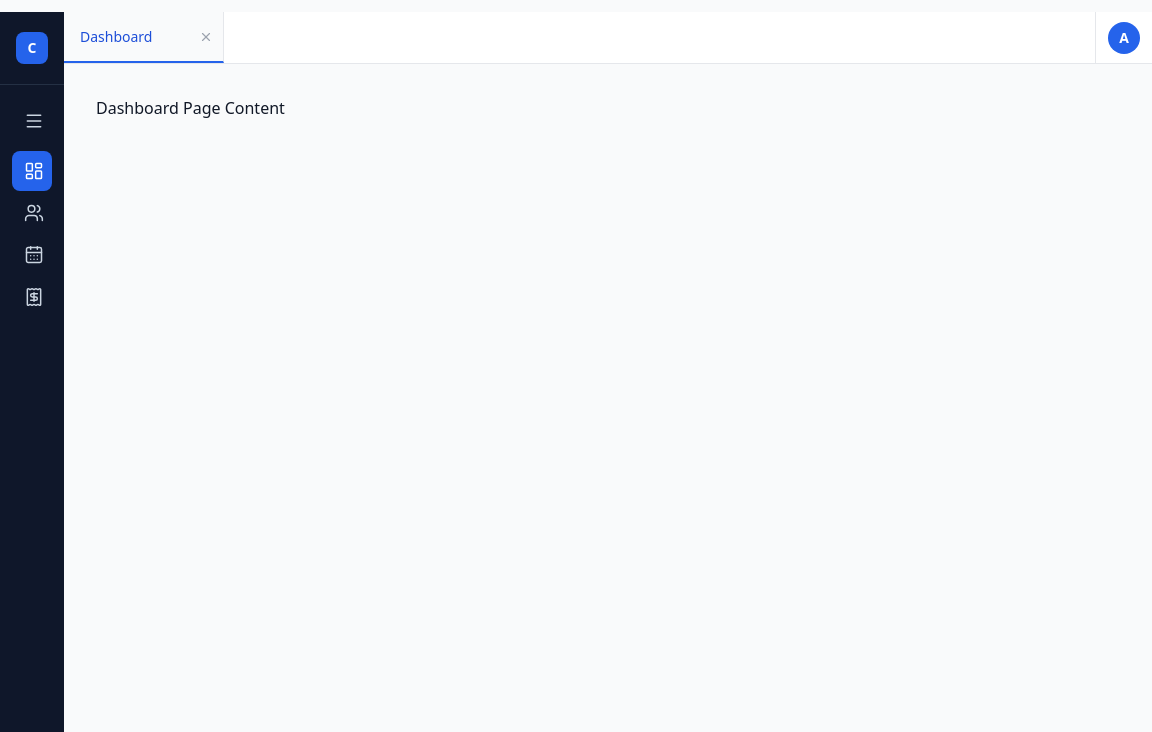
Test: Layout › goes back to routed content once a new tab is opened from the empty state
Click the button with test id "tab-close": (206, 36) [199,30,213,44]
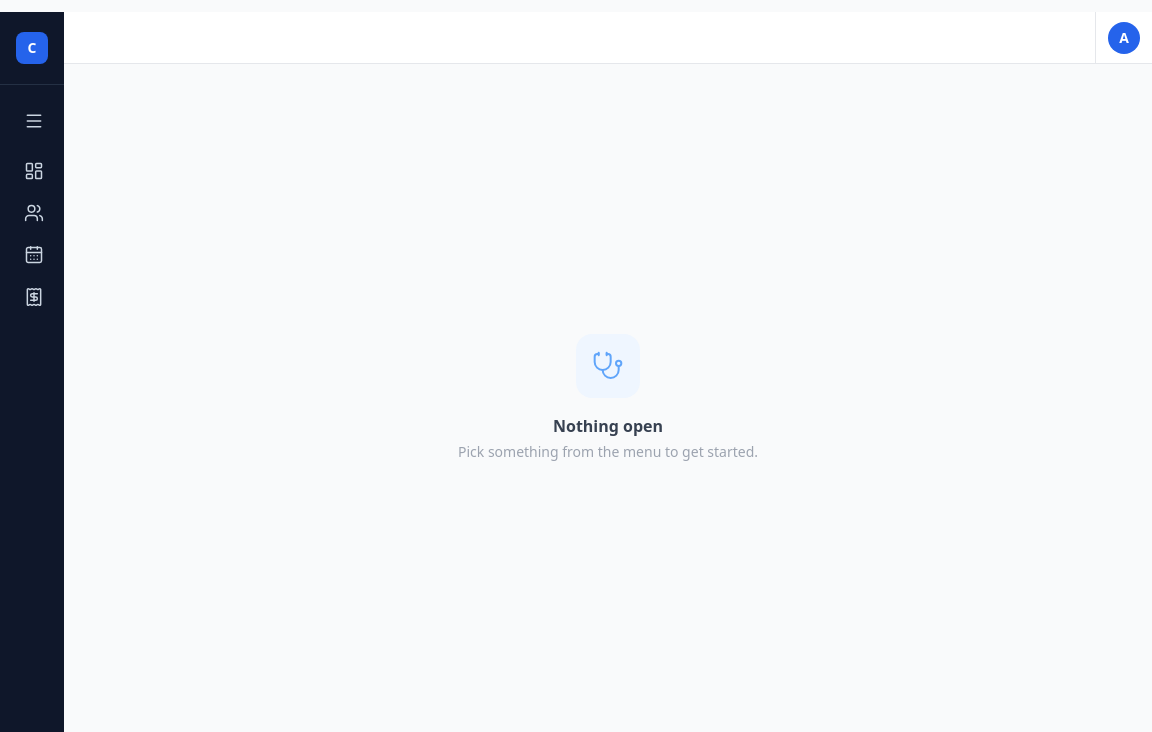
Result: the text "Nothing open" is shown at [553,414,663,438]
Hover over the element with test id "rail": (32, 372) [0,12,64,731]
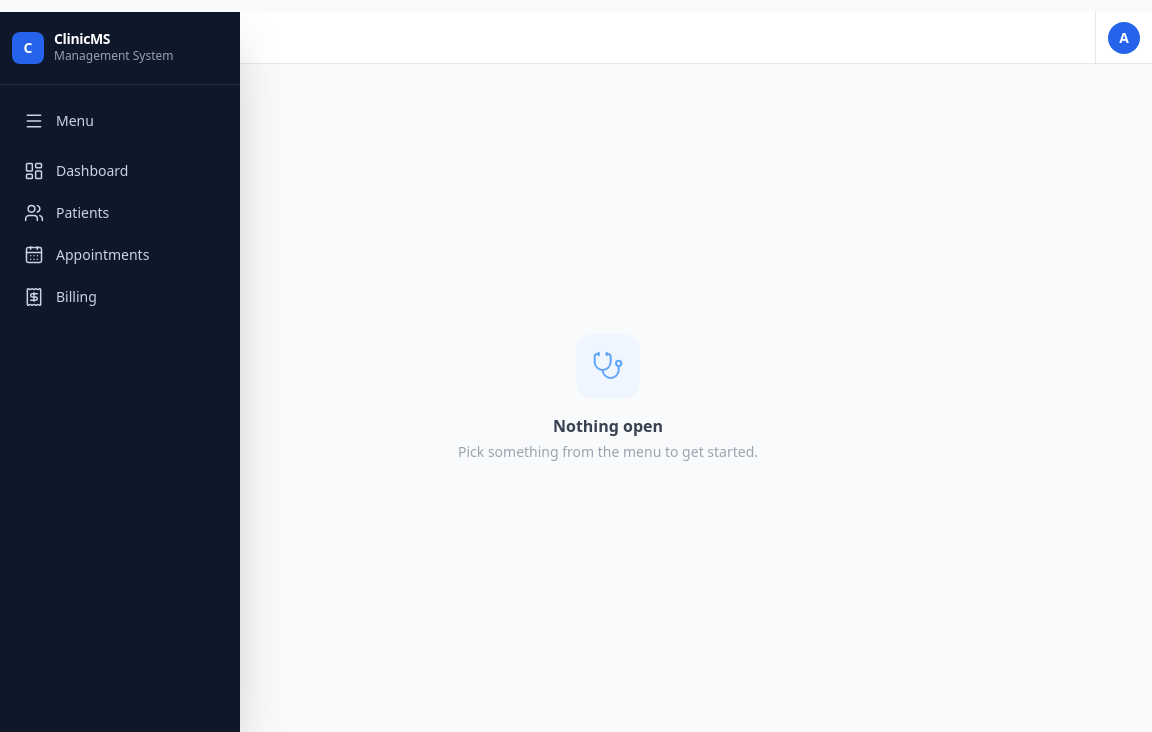
Click the link "Patients": (67, 213) [24,203,109,223]
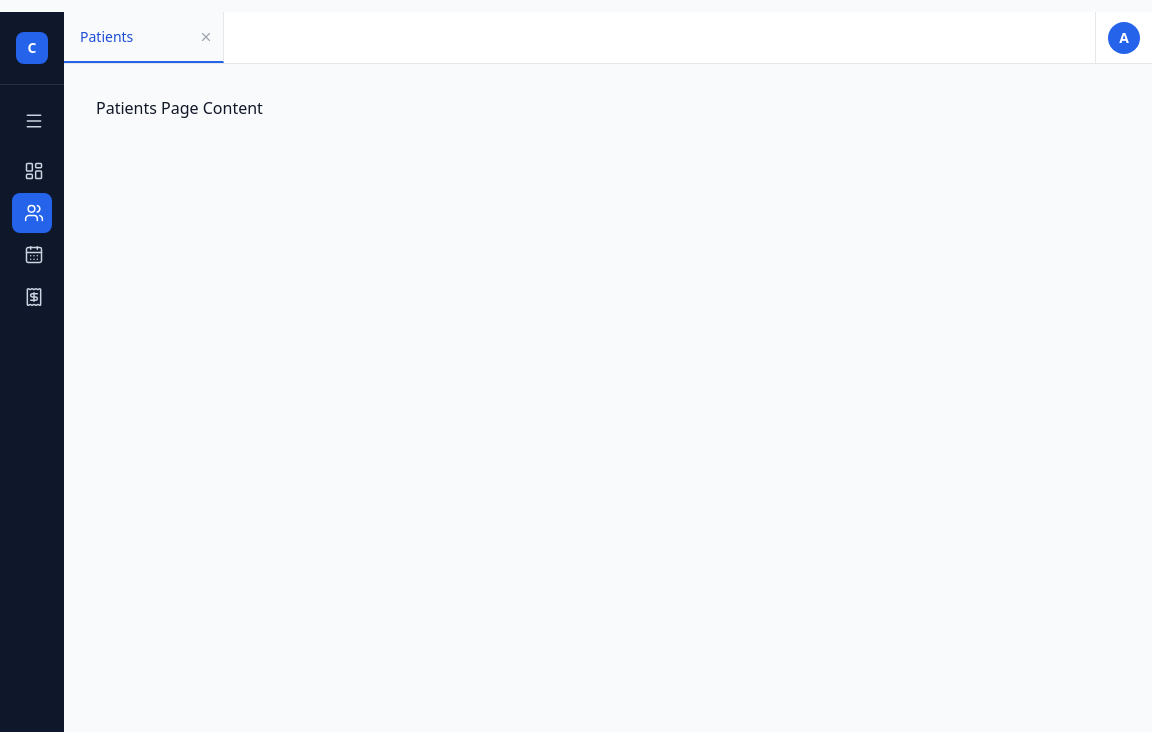
Result: the text "Nothing open" is gone
Result: the text "Patients Page Content" is shown at [96,97,263,119]
